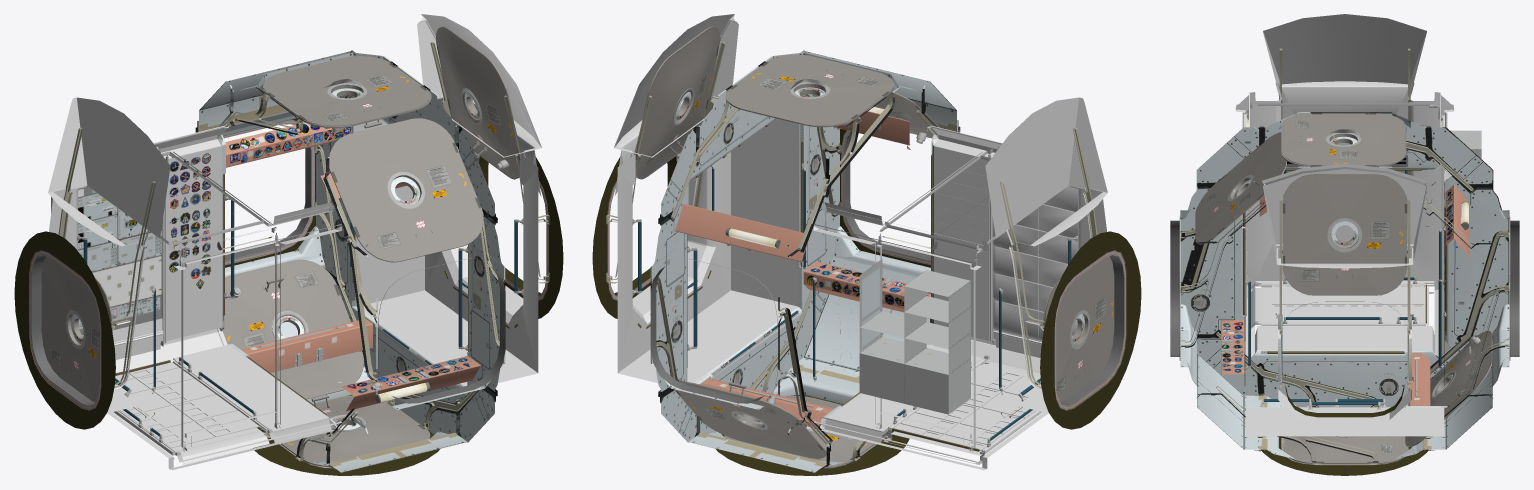
Rendered from iss-node1.glb.
3 renders of one model, left to right at view 1: azimuth 30°, elevation 25°; view 2: azimuth 150°, elevation 25°; view 3: azimuth 270°, elevation 25°, orthographic. The views are drawn at different scales.
Visible parts, largest first — view 1: Node1_Int, Node1_Int_Metal_Hatch_Stbd, Node1_Int_Metal_Hatch_Port, Node1_Int_Metal_Hatch_Zenith_Closed, Node1_Int_Metal_Hatch_Fwd, Node1_Int_Metal_Hatch_Aft_Closed, Node1_Int_Metal_Hatch_Nadir_Closed, Node1_Patches_Cutout, EXPRESS_Racks_ATLAS_Galley_Middle, EXPRESS_Racks_ATLAS_Galley_Base, EXPRESS_Racks_ATLAS_Galley Food Warmer_02, EXPRESS_Racks_ATLAS_Galley Food Warmer_01 (+2 smaller); view 2: Node1_Int, Node1_Int_Metal_Hatch_Zenith_Closed, EXPRESS_Racks_ATLAS_Galley_Base, Node1_Int_Metal_Hatch_Fwd, Node1_Int_Metal_Hatch_Aft_Closed, Node1_Int_Metal_Hatch_Port, EXPRESS_Racks_ATLAS_Biofuel FRIDGE_01, Node1_Int_Metal_Hatch_Nadir_Closed, EXPRESS_Racks_ATLAS_Biofuel FRIDGE_02, EXPRESS_Racks_ATLAS_Galley Food Warmer_01, Node1_Int_Metal_Hatch_Stbd, EXPRESS_Racks_ATLAS_Galley Food Warmer_02 (+3 smaller); view 3: Node1_Int, Node1_Int_Metal_Hatch_Fwd, Node1_Int_Metal_Hatch_Zenith_Closed, Node1_Int_Metal_Hatch_Stbd, Node1_Int_Metal_Hatch_Port, Node1_Int_Metal_Hatch_Nadir_Closed, Node1_Patches_Cutout, EXPRESS_Racks_ATLAS_Biofuel FRIDGE_01.
Part boxes in pixels (bbox=[...]): Node1_Int: bbox=[14, 14, 563, 475]; Node1_Int_Metal_Hatch_Stbd: bbox=[329, 118, 483, 262]; Node1_Int_Metal_Hatch_Port: bbox=[222, 259, 363, 399]; Node1_Int_Metal_Hatch_Zenith_Closed: bbox=[263, 56, 431, 132]; Node1_Int_Metal_Hatch_Fwd: bbox=[436, 26, 520, 179]; Node1_Int_Metal_Hatch_Aft_Closed: bbox=[41, 256, 112, 401]; Node1_Int_Metal_Hatch_Nadir_Closed: bbox=[268, 395, 430, 467]; Node1_Patches_Cutout: bbox=[169, 124, 469, 393]; EXPRESS_Racks_ATLAS_Galley_Middle: bbox=[92, 255, 161, 307]; EXPRESS_Racks_ATLAS_Galley_Base: bbox=[78, 185, 162, 342]; EXPRESS_Racks_ATLAS_Galley Food Warmer_02: bbox=[117, 229, 161, 265]; EXPRESS_Racks_ATLAS_Galley Food Warmer_01: bbox=[78, 241, 117, 272]; Node1_Int: bbox=[592, 14, 1141, 475]; Node1_Int_Metal_Hatch_Zenith_Closed: bbox=[725, 55, 894, 127]; EXPRESS_Racks_ATLAS_Galley_Base: bbox=[859, 259, 970, 414]; Node1_Int_Metal_Hatch_Fwd: bbox=[635, 26, 720, 179]; Node1_Int_Metal_Hatch_Aft_Closed: bbox=[1043, 256, 1114, 401]; Node1_Int_Metal_Hatch_Port: bbox=[674, 381, 826, 458]; EXPRESS_Racks_ATLAS_Biofuel FRIDGE_01: bbox=[904, 270, 970, 322]; Node1_Int_Metal_Hatch_Nadir_Closed: bbox=[724, 396, 887, 468]; EXPRESS_Racks_ATLAS_Biofuel FRIDGE_02: bbox=[904, 296, 970, 348]; EXPRESS_Racks_ATLAS_Galley Food Warmer_01: bbox=[904, 322, 970, 374]; Node1_Int_Metal_Hatch_Stbd: bbox=[812, 91, 940, 143]; EXPRESS_Racks_ATLAS_Galley Food Warmer_02: bbox=[860, 311, 926, 363]; Node1_Int: bbox=[1170, 14, 1519, 475]; Node1_Int_Metal_Hatch_Fwd: bbox=[1282, 174, 1407, 295]; Node1_Int_Metal_Hatch_Zenith_Closed: bbox=[1281, 113, 1406, 166]; Node1_Int_Metal_Hatch_Stbd: bbox=[1195, 132, 1286, 244]; Node1_Int_Metal_Hatch_Port: bbox=[1405, 331, 1492, 446]; Node1_Int_Metal_Hatch_Nadir_Closed: bbox=[1283, 436, 1408, 463]; Node1_Patches_Cutout: bbox=[1221, 169, 1453, 372]; EXPRESS_Racks_ATLAS_Biofuel FRIDGE_01: bbox=[1450, 130, 1481, 158].
Size of the model in its own units: 49.58 by 39.76 by 37.59.
Materials: 5 (4 with a texture image).
